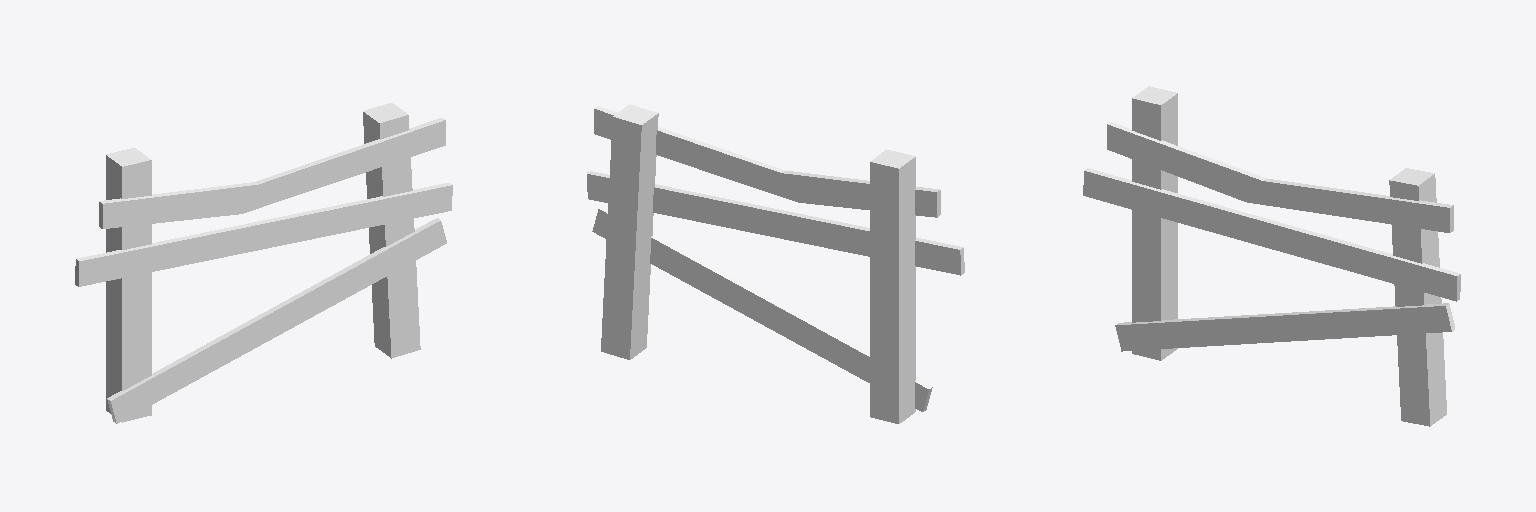
File: Fence_2.obj
3 views of the same model, side by side, from view 1: azimuth 30°, elevation 25°; view 2: azimuth 150°, elevation 25°; view 3: azimuth 330°, elevation 25° (orthographic).
Parts seen in each view (by area): view 1: Fence_02; view 2: Fence_02; view 3: Fence_02.
Boxes of the visible parts, <box> form: Fence_02: <box>75,103,452,423</box>; Fence_02: <box>587,104,964,423</box>; Fence_02: <box>1083,86,1460,426</box>.
Size of the model in its own units: 38.46 by 25.26 by 3.45.